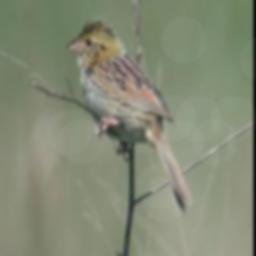Sparrow: (62, 14, 197, 216)
